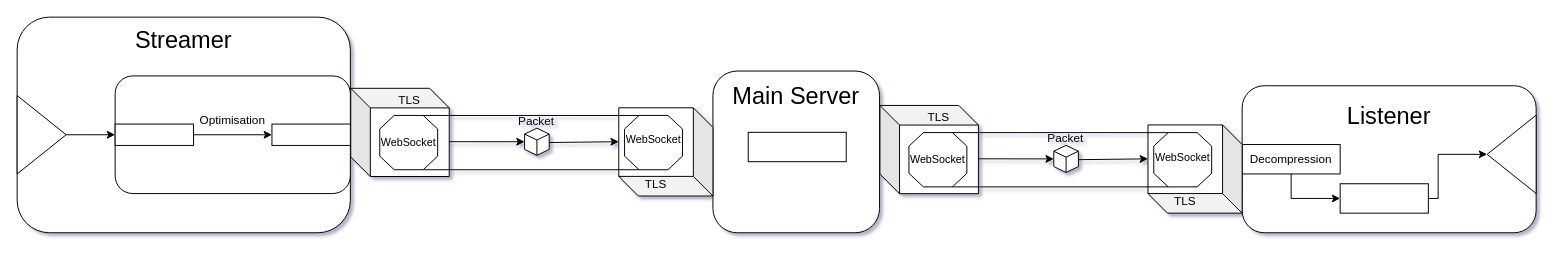
This 1559x256 diagram has some shape labels left out. The shapes that lost their labels are listed below. From the top down, each one's centre as x and y in pixels, then its label:
[41,134]: Audio Source
[154,134]: Cleaning
[310,134]: Compression
[796,146]: Packet Arrangement
[1511,154]: Speaker
[1383,198]: Standardisation
